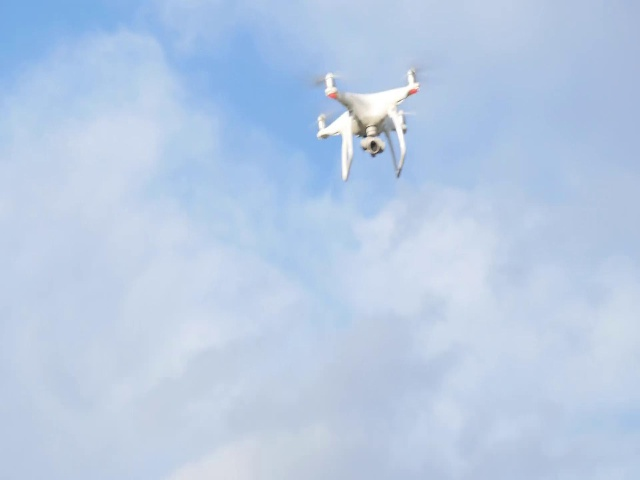drone: (304, 58, 432, 183)
